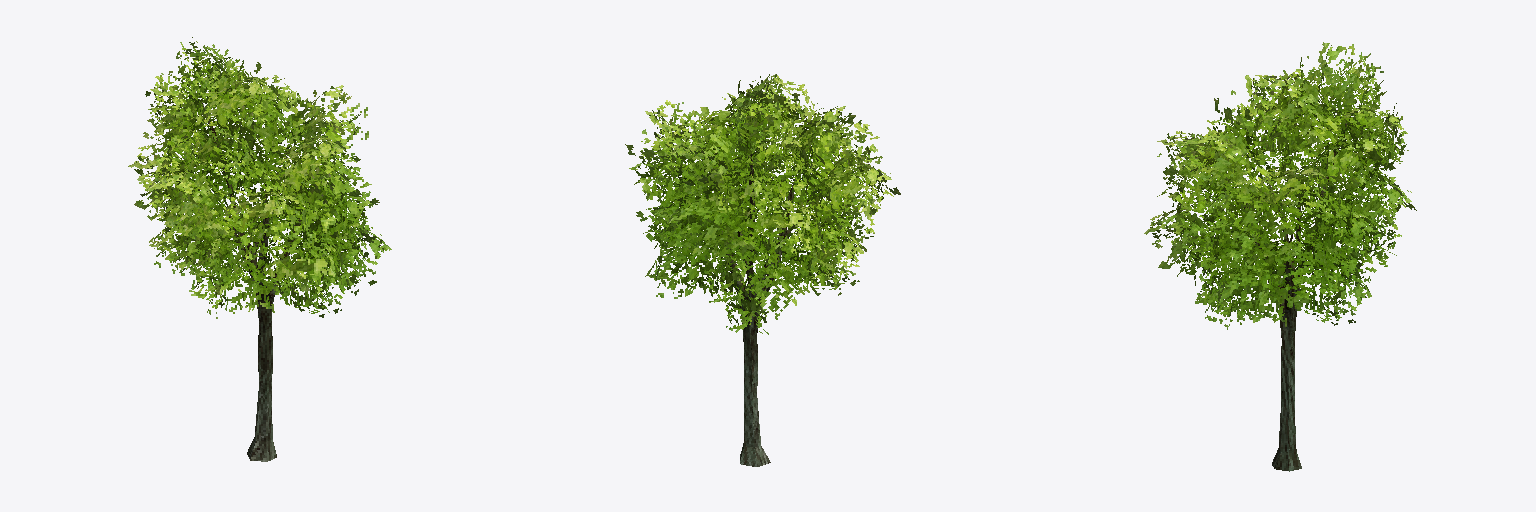
The picture shows the model from 3 angles: view 1: azimuth 30°, elevation 25°; view 2: azimuth 150°, elevation 25°; view 3: azimuth 270°, elevation 25°; orthographic projection.
Visible parts, largest first — view 1: AM113_063_Tilia92; view 2: AM113_063_Tilia92; view 3: AM113_063_Tilia92.
Part boxes in pixels (left/top/right/bottom): AM113_063_Tilia92: left=128, top=37, right=391, bottom=461; AM113_063_Tilia92: left=625, top=74, right=900, bottom=466; AM113_063_Tilia92: left=1144, top=42, right=1416, bottom=471.
Size of the model in its own units: 73.8 by 118 by 72.18.
1 materials, 1 textured.